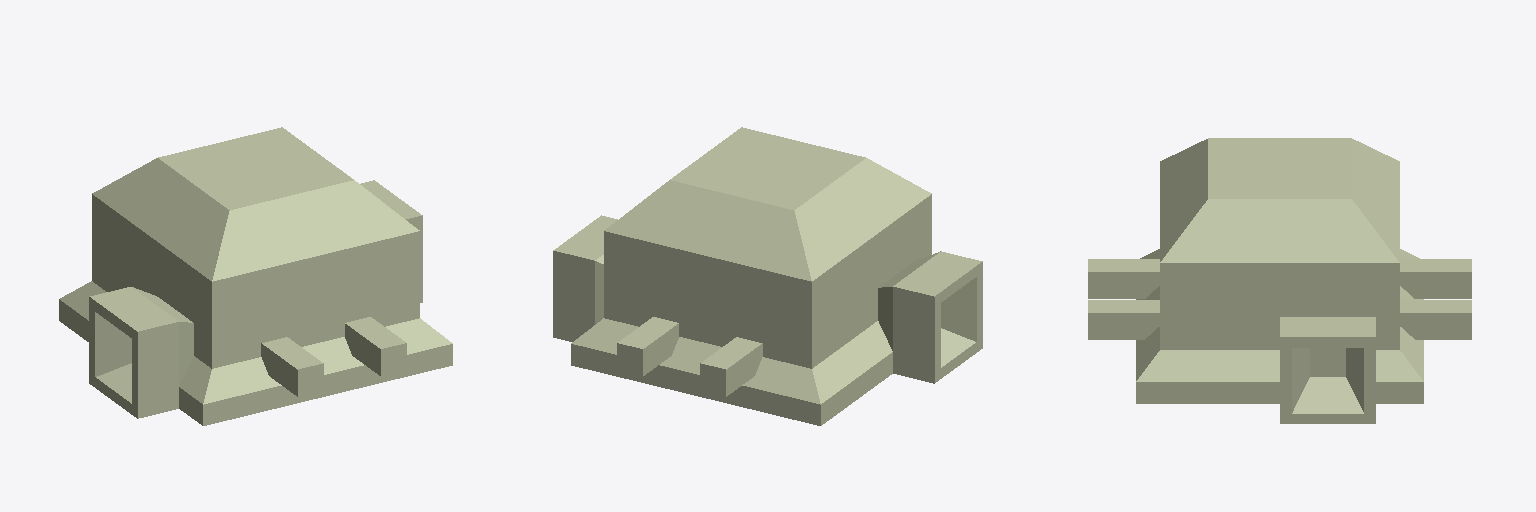
Rendered from assembler_base_new.obj.
3 renders of one model, left to right at view 1: azimuth 30°, elevation 25°; view 2: azimuth 150°, elevation 25°; view 3: azimuth 270°, elevation 25°, orthographic.
Parts seen in each view (by area): view 1: Cube_Cube.001; view 2: Cube_Cube.001; view 3: Cube_Cube.001.
Part boxes in pixels (bbox=[...]): Cube_Cube.001: bbox=[59, 127, 452, 425]; Cube_Cube.001: bbox=[553, 127, 982, 425]; Cube_Cube.001: bbox=[1088, 138, 1471, 423].
Bounding box in the file's own units: 4 × 2 × 4.